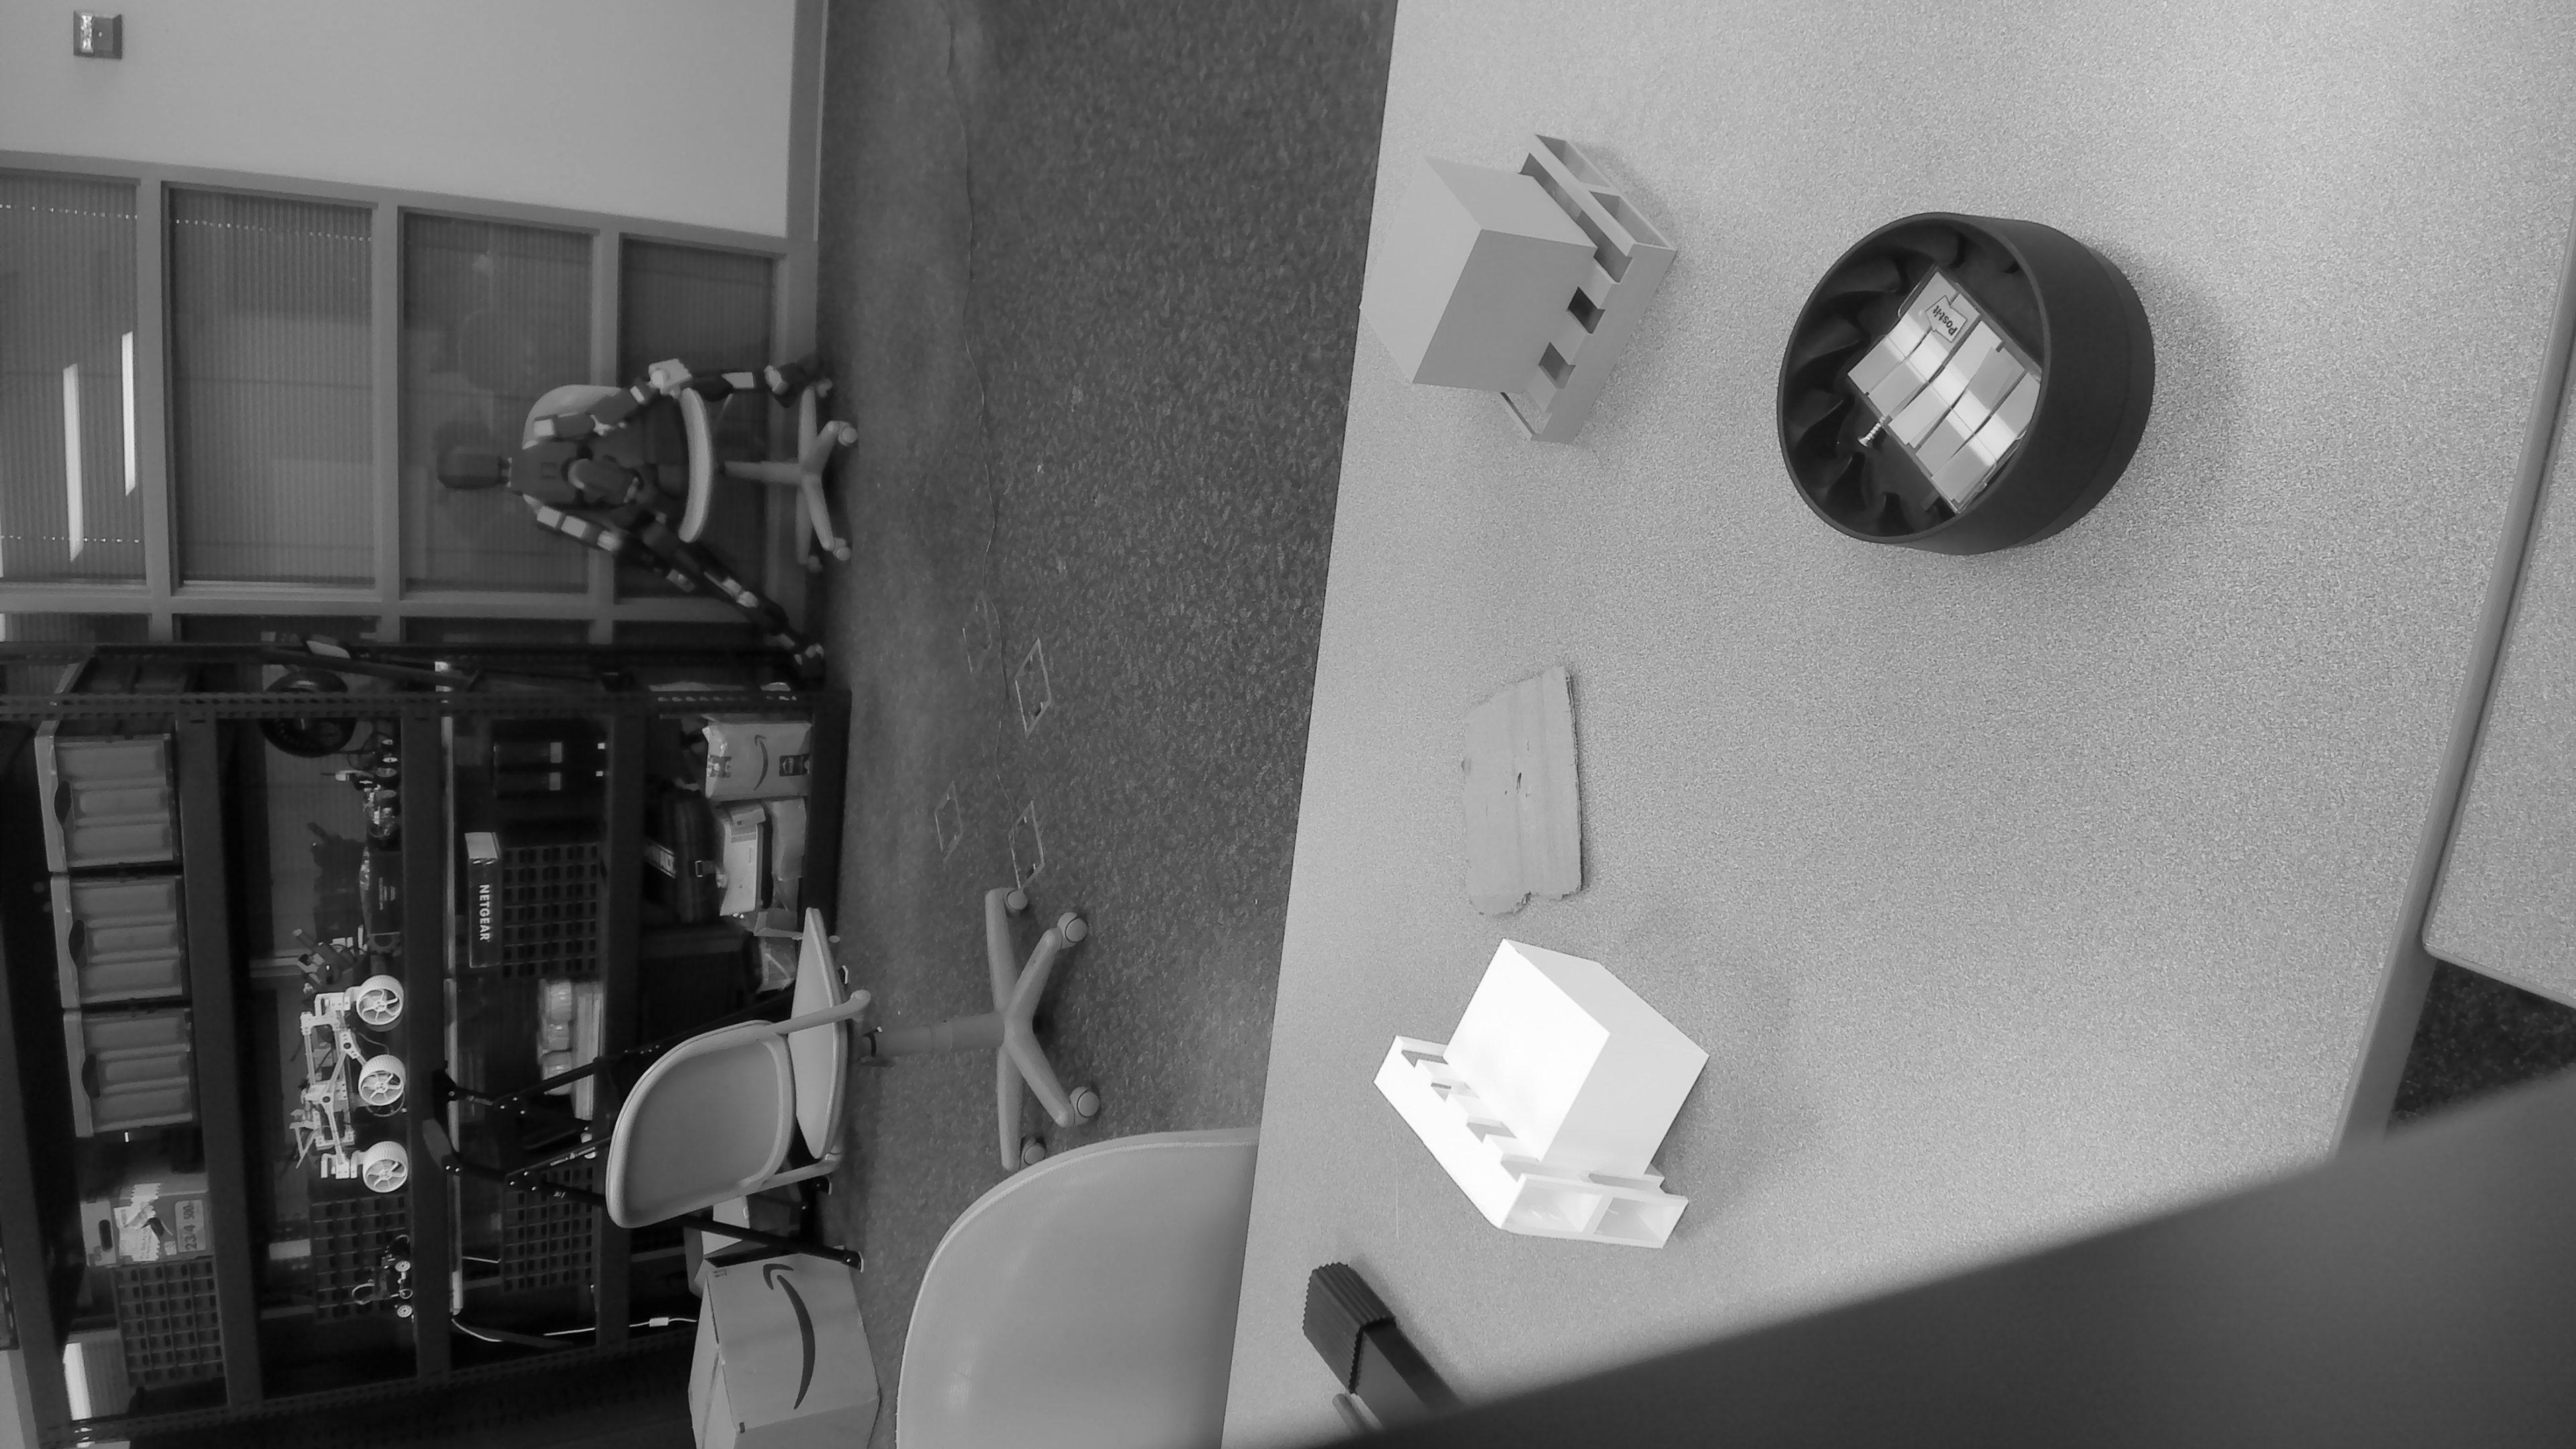grey pallet: (1352, 127, 1688, 460)
white pallet: (1371, 932, 1718, 1256)
